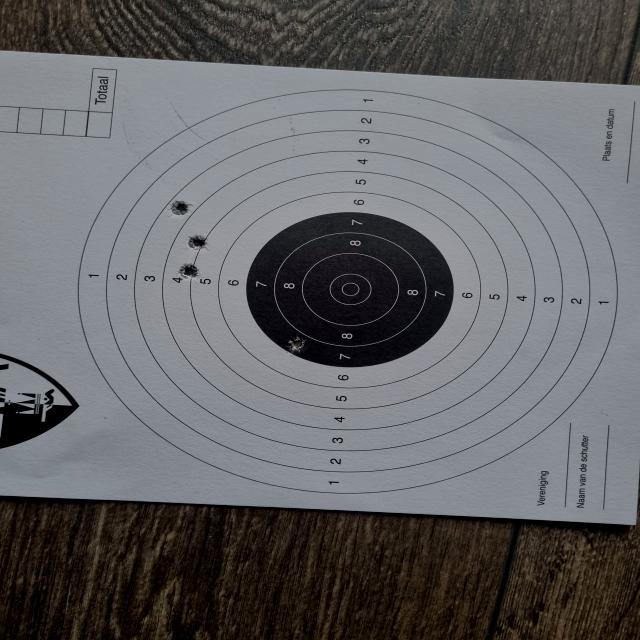3: (168, 200, 193, 216)
5: (188, 235, 210, 251), (179, 264, 202, 279)
7: (287, 335, 306, 354)
Target: (72, 85, 622, 496)
black_contour: (244, 212, 454, 368)
